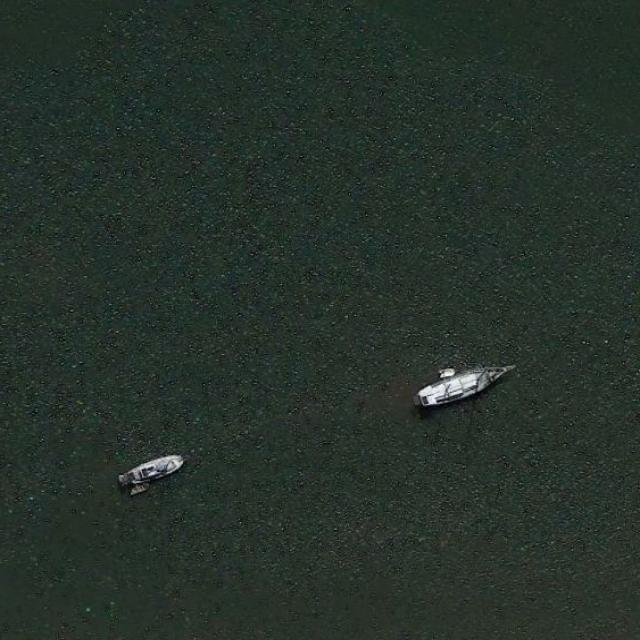ship: (415, 361, 521, 408), (117, 451, 191, 490)
